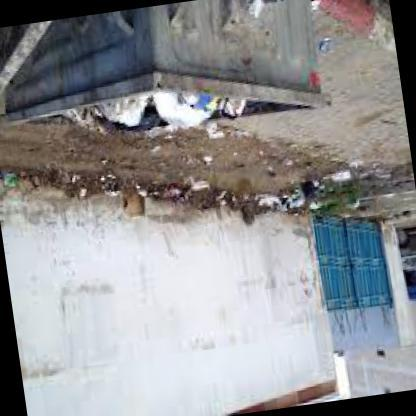Garbage: (58, 81, 244, 144)
